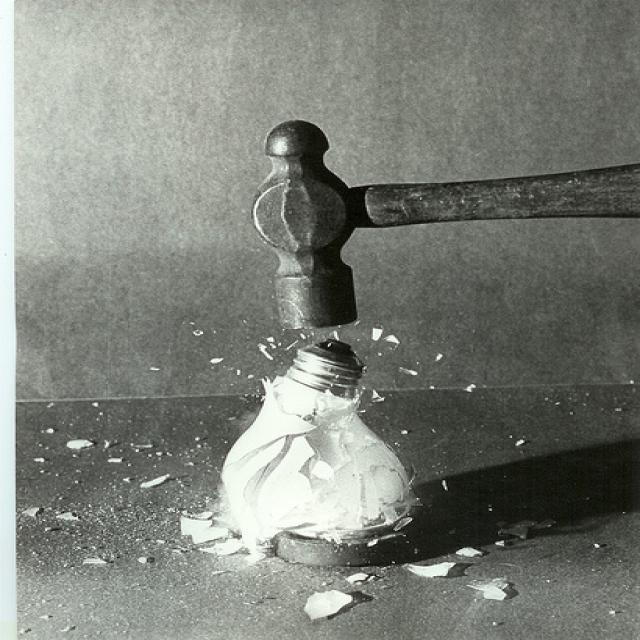hammer: (235, 114, 640, 341)
